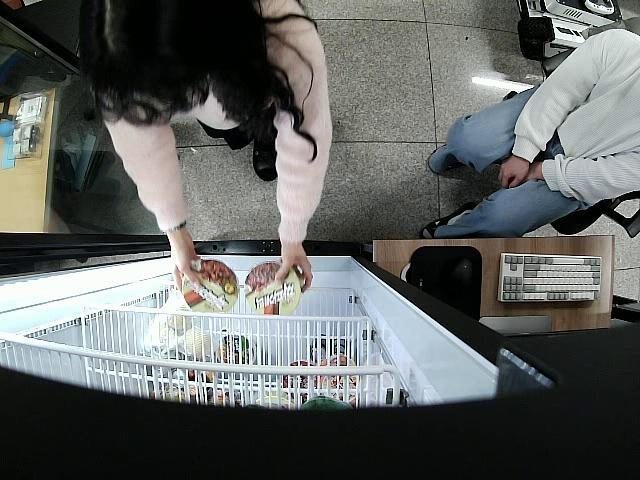03_chapagetti_L: (246, 262, 303, 318), (182, 260, 238, 314)
